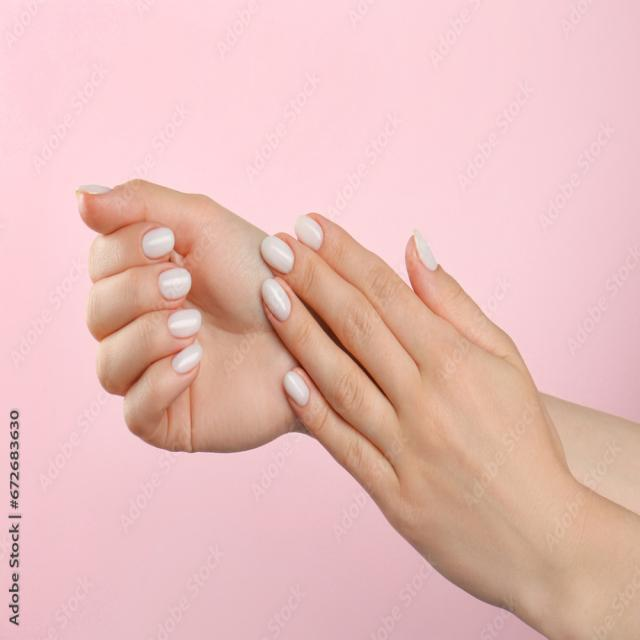Fingernail: (262, 280, 290, 318), (262, 237, 293, 271), (143, 227, 174, 259), (159, 269, 190, 300), (172, 343, 201, 374), (168, 310, 201, 337), (415, 231, 438, 269), (296, 217, 322, 249), (284, 371, 308, 404), (76, 185, 111, 198)
